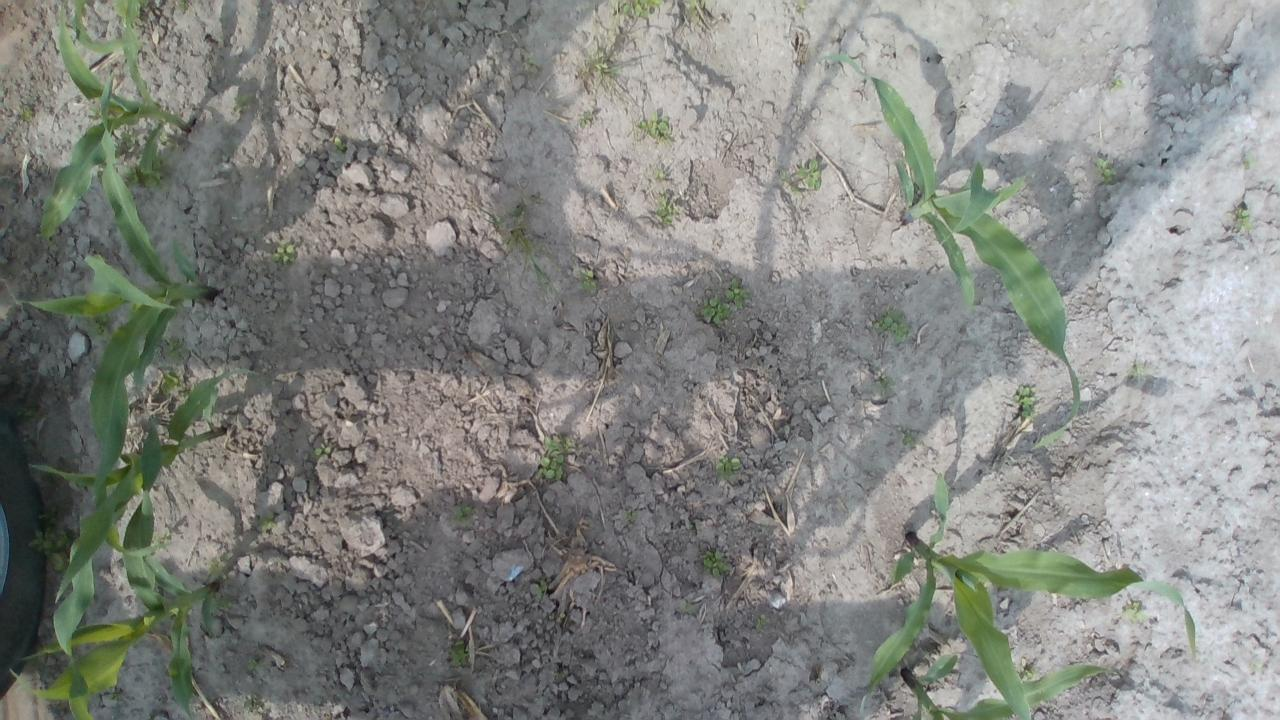Maize: (814, 53, 1086, 453), (3, 69, 217, 503), (862, 470, 1196, 720), (32, 368, 260, 720), (6, 415, 222, 720), (34, 0, 188, 239), (899, 651, 1120, 720), (66, 0, 150, 51)
Weeds: (489, 199, 561, 299), (31, 528, 74, 574), (536, 433, 574, 480), (582, 46, 622, 82), (872, 308, 912, 344), (634, 110, 673, 145), (610, 0, 664, 20), (112, 122, 138, 163), (724, 276, 753, 310), (700, 294, 734, 323), (1012, 384, 1038, 419), (150, 150, 173, 188), (84, 311, 112, 342), (797, 160, 823, 190), (700, 550, 729, 576), (778, 169, 805, 196), (1091, 156, 1116, 185), (117, 164, 144, 190), (161, 336, 188, 362), (270, 238, 296, 264), (715, 456, 742, 480), (656, 195, 678, 224), (448, 640, 470, 668), (1232, 206, 1254, 231), (1124, 602, 1148, 624), (241, 690, 265, 712), (160, 369, 180, 395), (208, 554, 227, 580), (874, 374, 896, 396), (579, 267, 598, 292), (231, 92, 254, 112), (453, 504, 474, 525), (150, 529, 170, 550), (900, 424, 916, 448), (214, 592, 233, 612), (530, 579, 548, 600), (1128, 362, 1148, 380), (16, 102, 32, 122), (260, 512, 276, 532), (1019, 666, 1038, 682), (333, 135, 348, 155), (688, 0, 706, 16), (158, 127, 174, 144), (88, 102, 102, 121), (311, 444, 330, 458), (520, 50, 534, 68), (180, 382, 194, 400), (1240, 154, 1256, 169), (621, 508, 638, 522), (1110, 77, 1124, 94), (246, 659, 264, 672), (106, 691, 124, 703), (579, 112, 593, 127), (681, 602, 698, 614), (652, 167, 666, 181), (755, 614, 767, 630), (794, 0, 806, 12), (554, 672, 566, 680)
